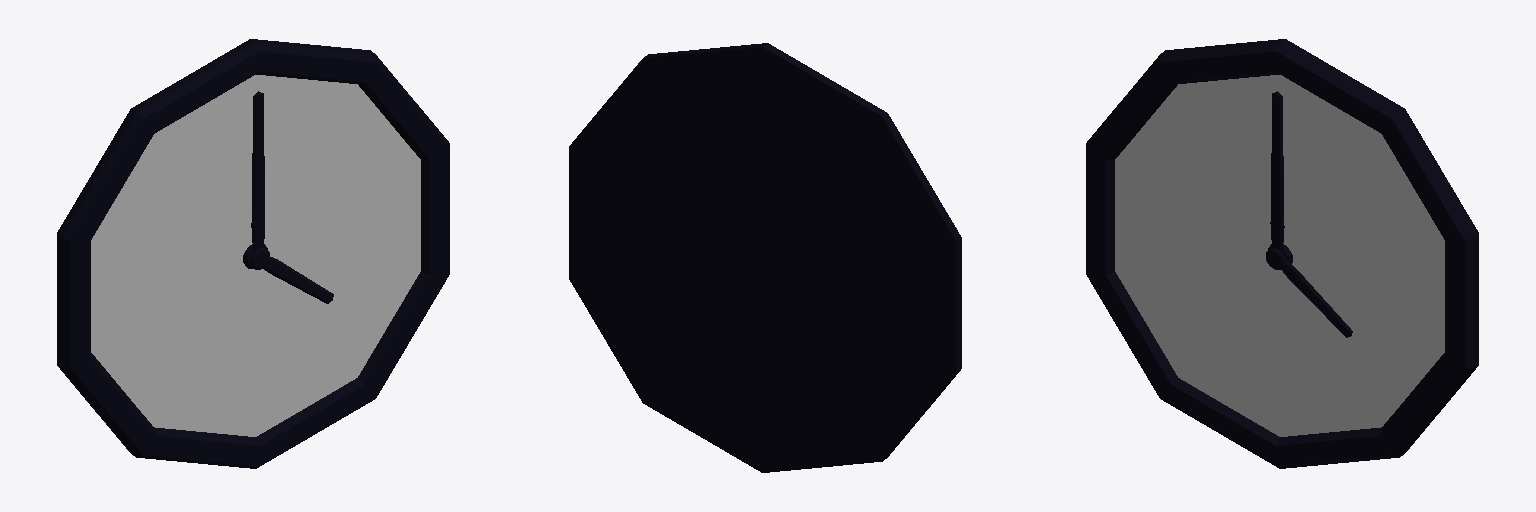
The model's file is Clock.obj.
3 views of the same model, side by side, from view 1: azimuth 30°, elevation 25°; view 2: azimuth 150°, elevation 25°; view 3: azimuth 330°, elevation 25° (orthographic).
Parts seen in each view (by area): view 1: Clock_Circle.006; view 2: Clock_Circle.006; view 3: Clock_Circle.006.
Boxes of the visible parts, x1=… form: Clock_Circle.006: x1=57, y1=39, x2=449, y2=468; Clock_Circle.006: x1=569, y1=43, x2=961, y2=472; Clock_Circle.006: x1=1086, y1=39, x2=1478, y2=468.
Size of the model in its own units: 1.25 by 1.31 by 0.0609.